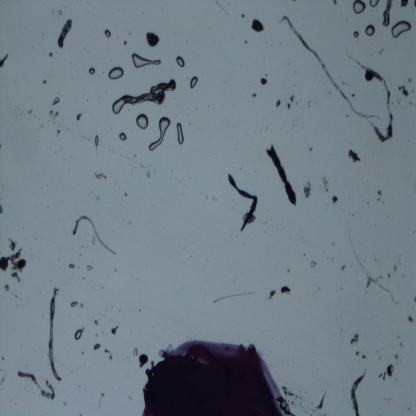Air bubble: (148, 116, 171, 151), (132, 54, 162, 68), (392, 20, 411, 38), (174, 121, 186, 147), (382, 0, 392, 28), (112, 96, 126, 115), (109, 65, 124, 81), (351, 1, 367, 15), (136, 115, 149, 130), (365, 23, 377, 37), (190, 76, 200, 90), (176, 56, 186, 68), (74, 328, 82, 341), (52, 96, 62, 106), (119, 132, 128, 142), (369, 0, 380, 8), (400, 0, 410, 8), (70, 300, 78, 308), (104, 30, 112, 38), (89, 68, 96, 76), (94, 135, 99, 146)
Background material: (212, 290, 258, 304), (58, 18, 74, 50), (10, 239, 21, 283), (315, 389, 328, 414), (142, 30, 160, 48), (346, 146, 362, 164), (320, 171, 331, 193), (96, 385, 106, 409), (398, 83, 412, 100), (91, 169, 109, 181), (251, 18, 265, 33), (303, 182, 312, 200), (17, 256, 27, 269), (351, 332, 361, 345), (104, 345, 114, 358), (378, 370, 388, 383), (0, 52, 10, 65), (386, 364, 395, 378), (268, 289, 277, 303), (280, 285, 292, 295), (337, 262, 348, 272), (391, 350, 401, 361), (49, 109, 59, 119), (259, 76, 269, 86), (309, 259, 319, 269), (111, 324, 119, 336), (84, 262, 93, 272), (131, 346, 140, 356), (250, 91, 258, 101), (407, 315, 414, 326), (276, 99, 282, 111), (392, 262, 398, 274), (25, 106, 34, 114), (288, 94, 296, 103), (94, 340, 101, 350), (332, 194, 338, 205), (146, 170, 151, 182), (76, 112, 82, 122), (354, 30, 360, 40), (286, 102, 293, 110), (4, 284, 11, 292), (376, 189, 383, 197), (56, 127, 62, 136), (330, 0, 339, 6), (375, 195, 381, 204), (122, 191, 130, 197), (366, 281, 370, 293), (68, 262, 74, 270), (57, 8, 63, 16), (355, 349, 361, 357), (0, 204, 4, 215), (240, 12, 245, 20), (94, 319, 99, 327), (243, 39, 249, 45), (42, 78, 48, 84), (396, 333, 401, 340), (48, 51, 53, 58), (62, 399, 67, 406), (400, 342, 404, 350), (80, 301, 84, 309), (285, 266, 290, 272), (308, 146, 313, 152), (362, 354, 367, 360), (378, 354, 382, 361), (128, 219, 132, 226), (124, 40, 127, 46), (95, 332, 98, 338), (82, 275, 85, 280), (115, 268, 118, 273), (388, 274, 391, 278), (138, 308, 141, 312), (82, 349, 84, 355), (101, 287, 104, 289), (119, 310, 121, 312)
Cellulose filter fibre: (282, 16, 381, 121), (341, 46, 395, 144), (347, 228, 401, 307), (70, 213, 116, 256), (46, 285, 63, 383), (122, 78, 177, 105), (16, 370, 57, 402), (347, 368, 367, 415)
Cotton: (225, 171, 262, 234)
Diatom: (0, 254, 8, 272), (364, 71, 374, 82)
Pen: (138, 339, 298, 416)
